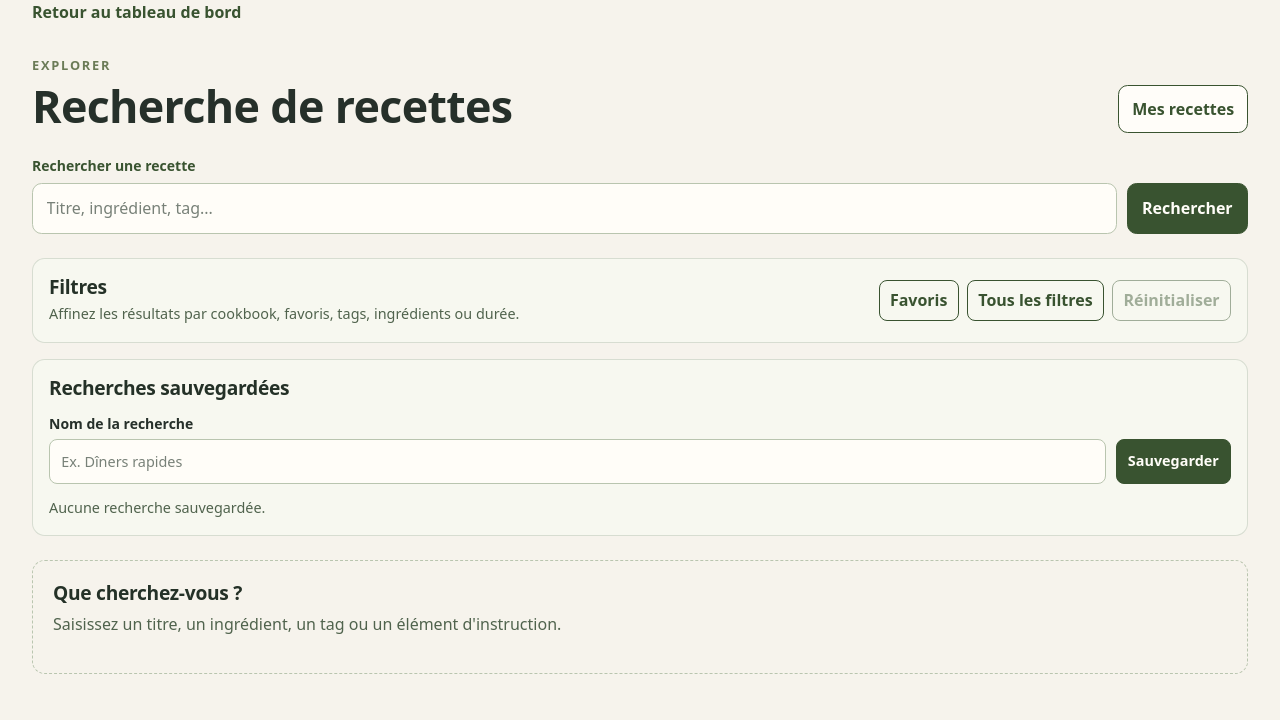
Test: SearchView › opens the advanced filters drawer with an accessible name and focus target
Click the button with class "advanced-filter-button".
click(1035, 300)  # box [967,280,1104,321]
(page scrolled)
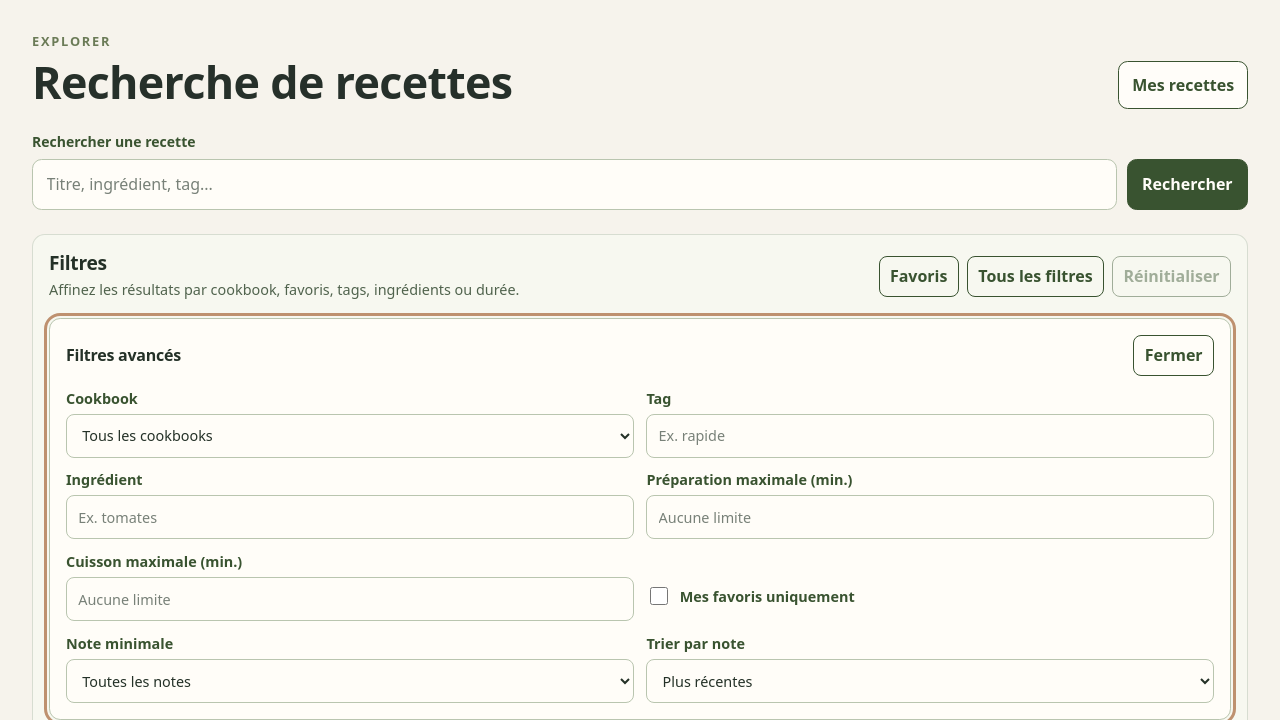
Check: the heading with id "advanced-filters-title" reads "Filtres avancés", box [66,344,181,366]
